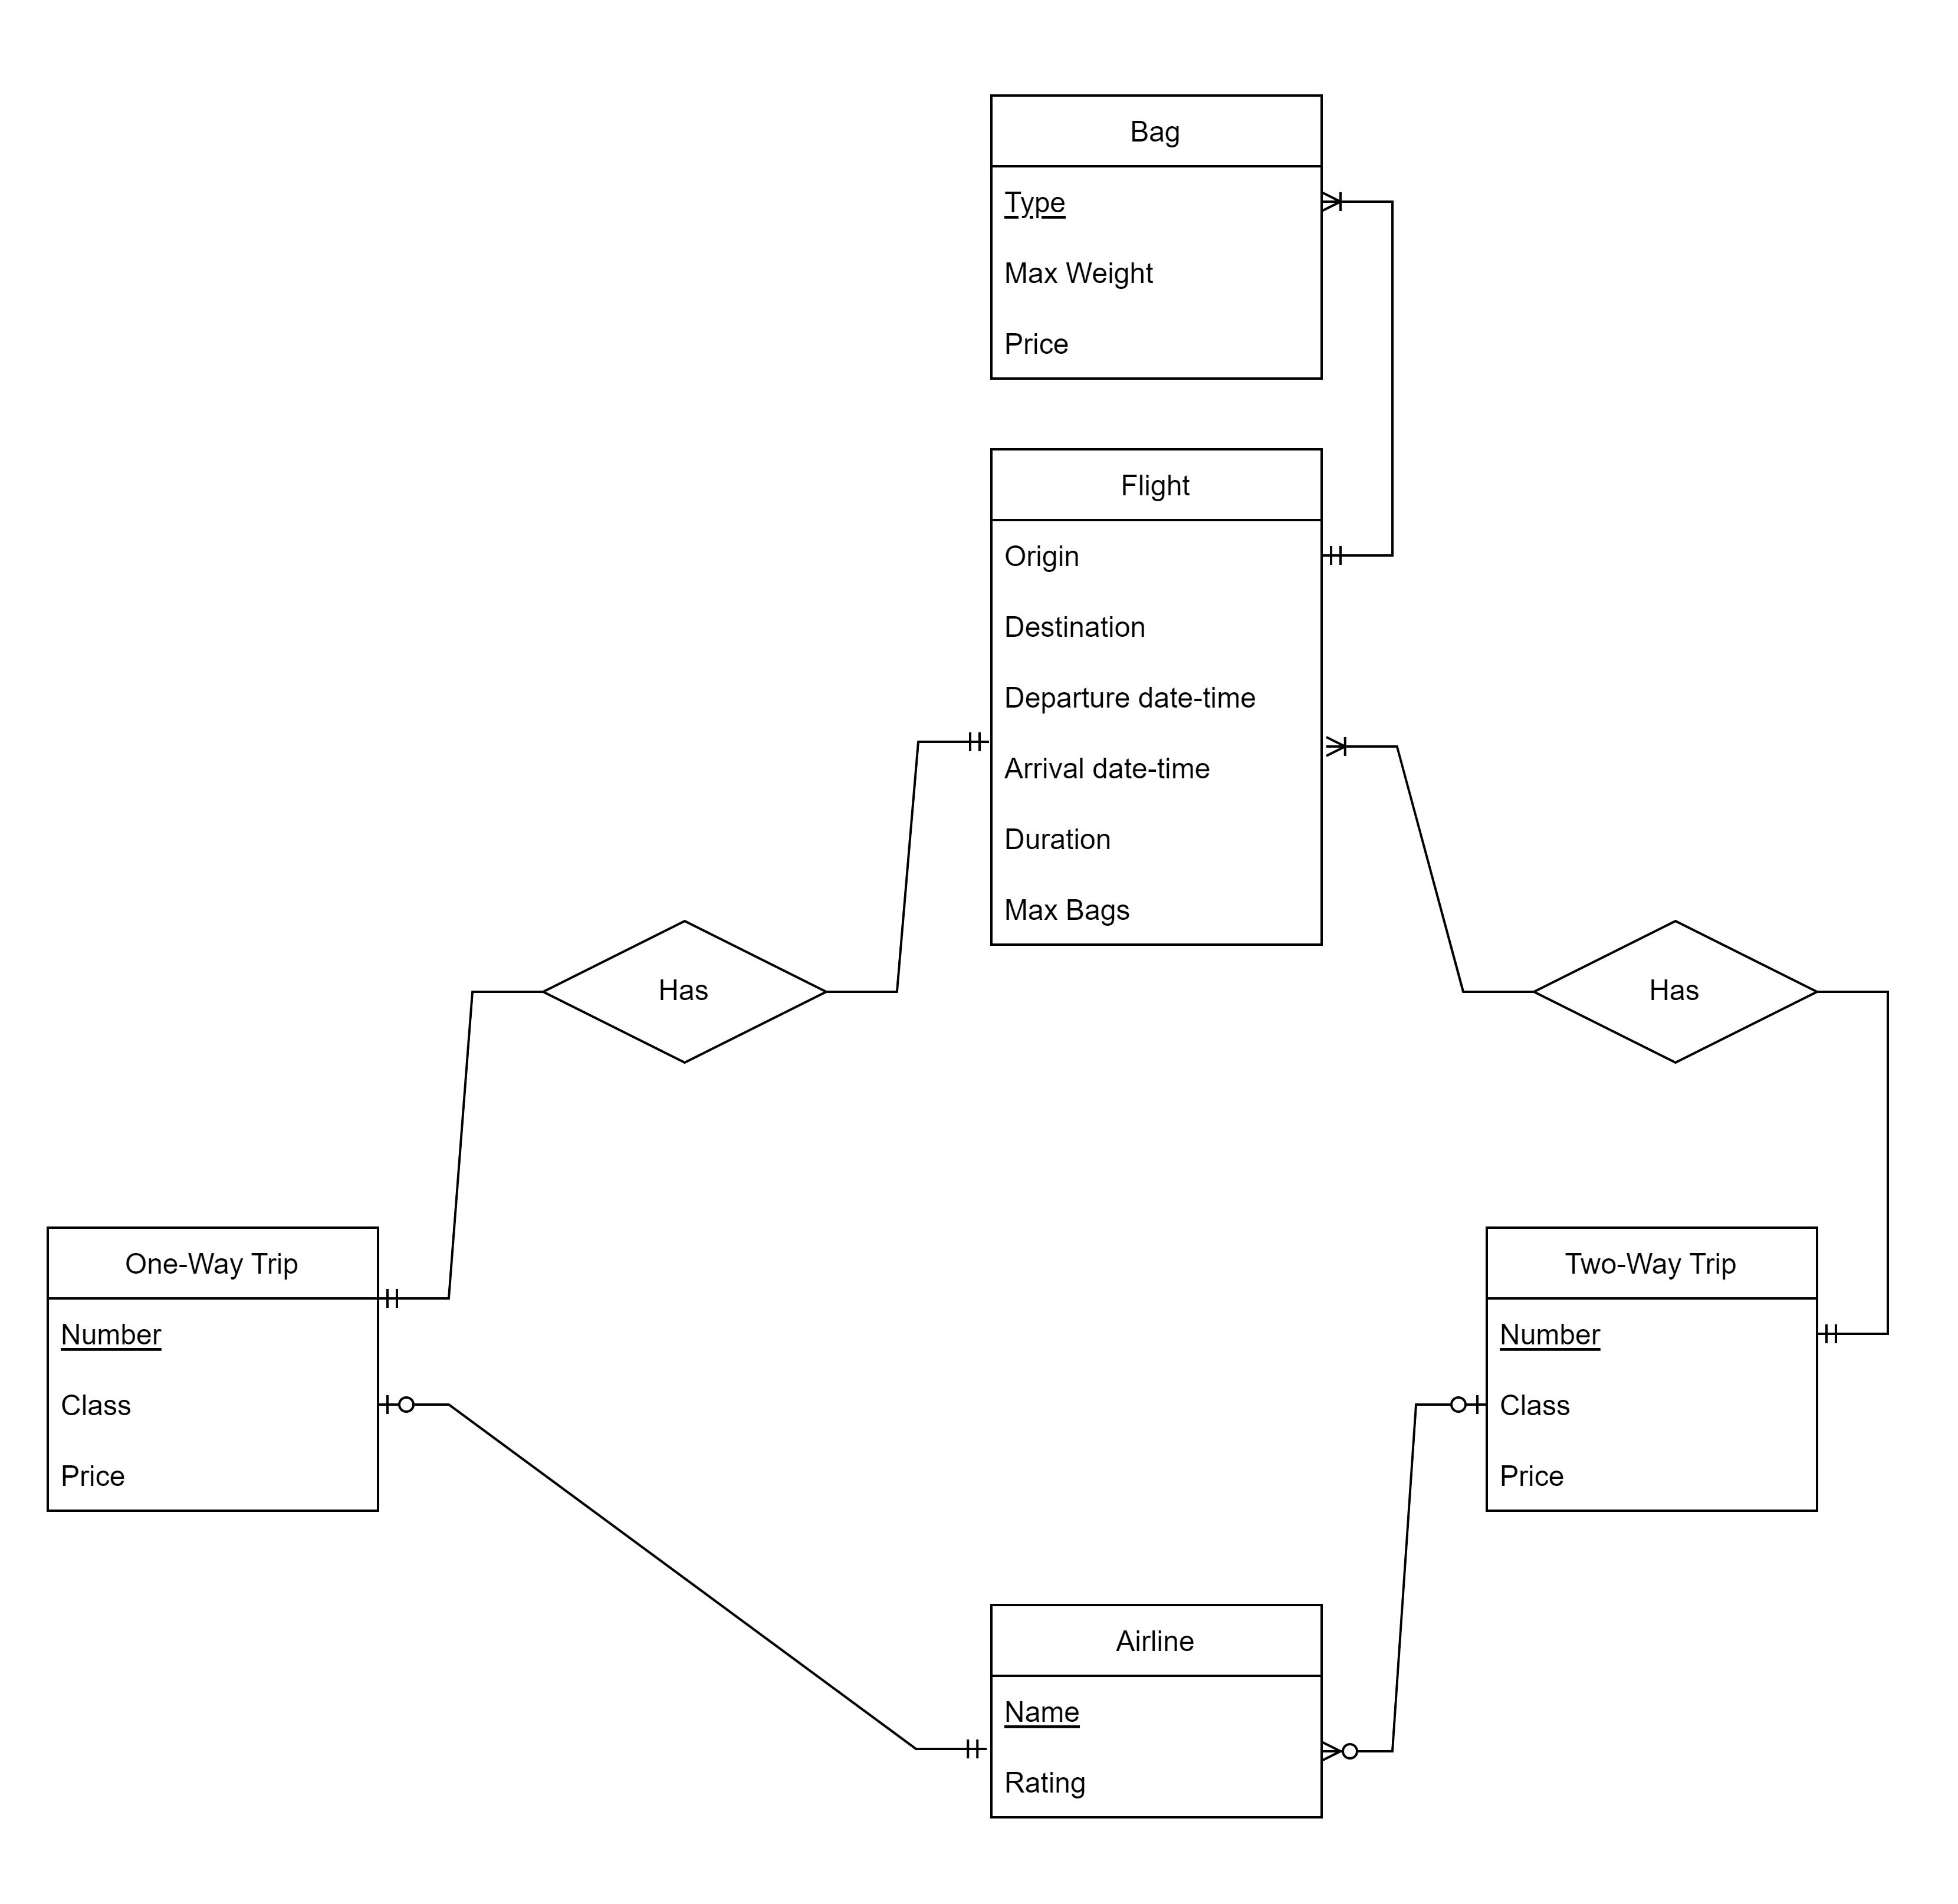entity: (988, 439, 1327, 951), (1482, 1219, 1822, 1521), (984, 86, 1325, 383), (40, 1224, 379, 1514), (984, 1603, 1327, 1820)
relationship: (545, 920, 827, 1068), (1537, 920, 1818, 1058)
